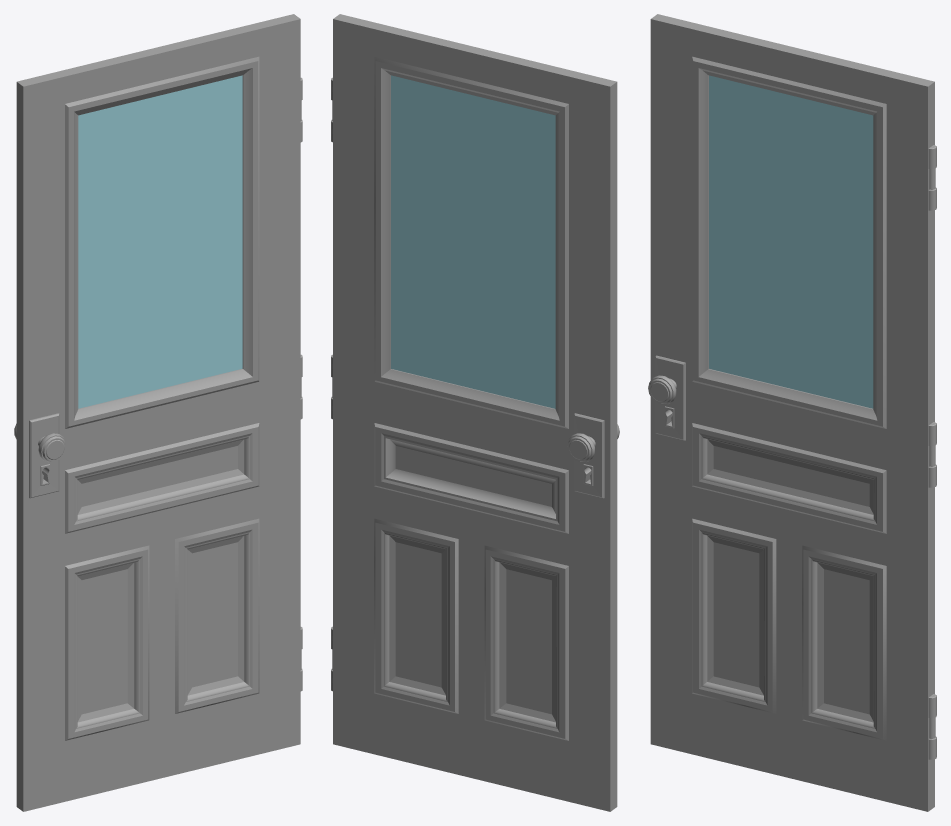
The model's file is bossdoor_structure.fbx.
3 views of the same model, side by side, from view 1: azimuth 30°, elevation 25°; view 2: azimuth 150°, elevation 25°; view 3: azimuth 330°, elevation 25° (orthographic).
Parts seen in each view (by area): view 1: bossdoor; view 2: bossdoor; view 3: bossdoor.
Boxes of the visible parts, x1=… form: bossdoor: x1=14, y1=14, x2=302, y2=811; bossdoor: x1=331, y1=14, x2=619, y2=811; bossdoor: x1=648, y1=14, x2=936, y2=811.
Bounding box in the file's own units: 82.92 × 204 × 15.4.
